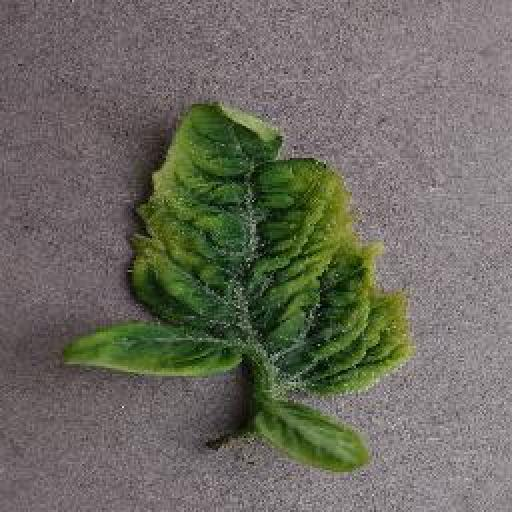Yellow Leaf Curl Virus: (59, 99, 408, 397)
